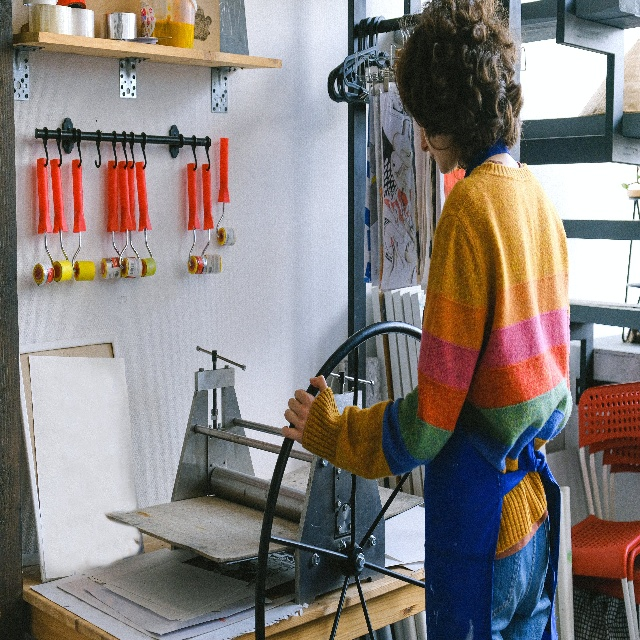Sin_guantes: (280, 371, 328, 447)
